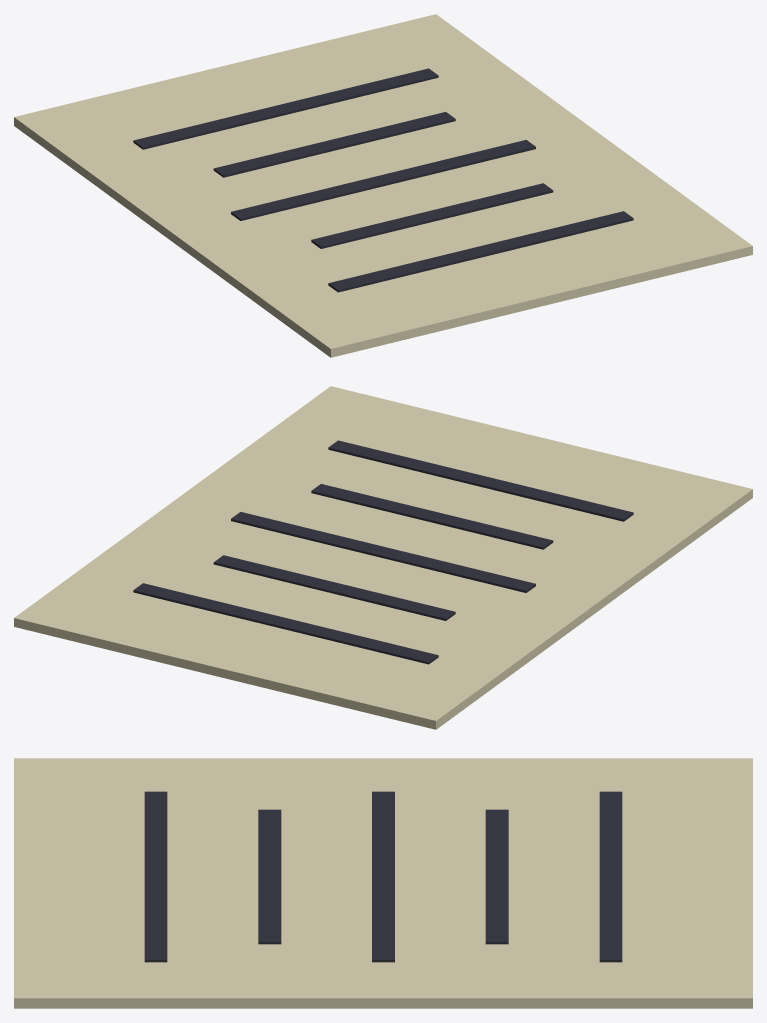
File: note.glb
The picture shows the model from 3 angles, top to bottom: view 1: azimuth 30°, elevation 25°; view 2: azimuth 150°, elevation 25°; view 3: azimuth 270°, elevation 25°; orthographic projection. The views are drawn at different scales.
Visible parts, largest first — view 1: note; view 2: note; view 3: note.
Boxes of the visible parts, box(x1,y1,x2,y2) form: note: box(14, 14, 752, 357); note: box(14, 386, 752, 729); note: box(14, 758, 752, 1008).
Size of the model in its own units: 0.2692 by 0.00673 by 0.35.
